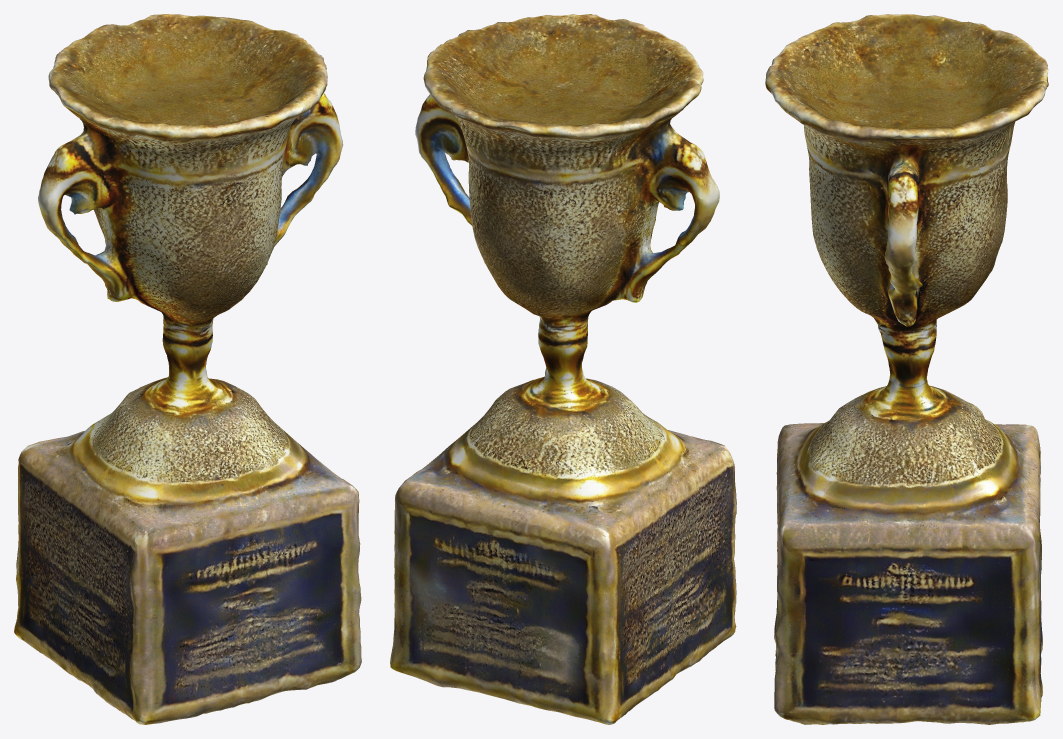
Rendered from deko_pokal.glb.
The picture shows the model from 3 angles, left to right: view 1: azimuth 30°, elevation 25°; view 2: azimuth 150°, elevation 25°; view 3: azimuth 270°, elevation 25°; orthographic projection. The views are drawn at different scales.
Parts seen in each view (by area): view 1: model_0; view 2: model_0; view 3: model_0.
Boxes of the visible parts, <box> form: model_0: <box>14,14,361,724</box>; model_0: <box>390,14,736,724</box>; model_0: <box>765,14,1048,724</box>.
Size of the model in its own units: 0.168 by 0.32 by 0.1351.
Materials: 1 (1 with a texture image).
